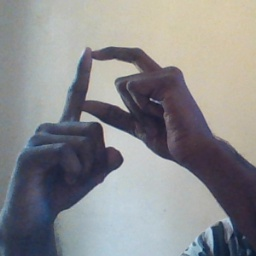D: (31, 37, 183, 166)
